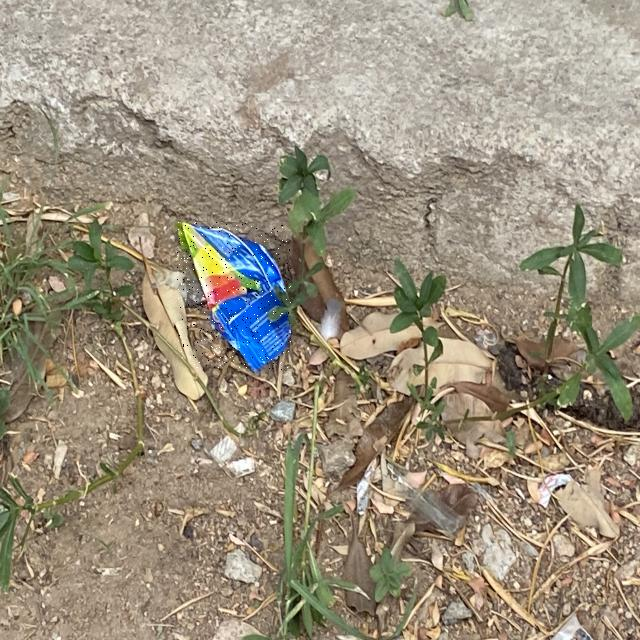wrapper: (177, 222, 291, 370)
